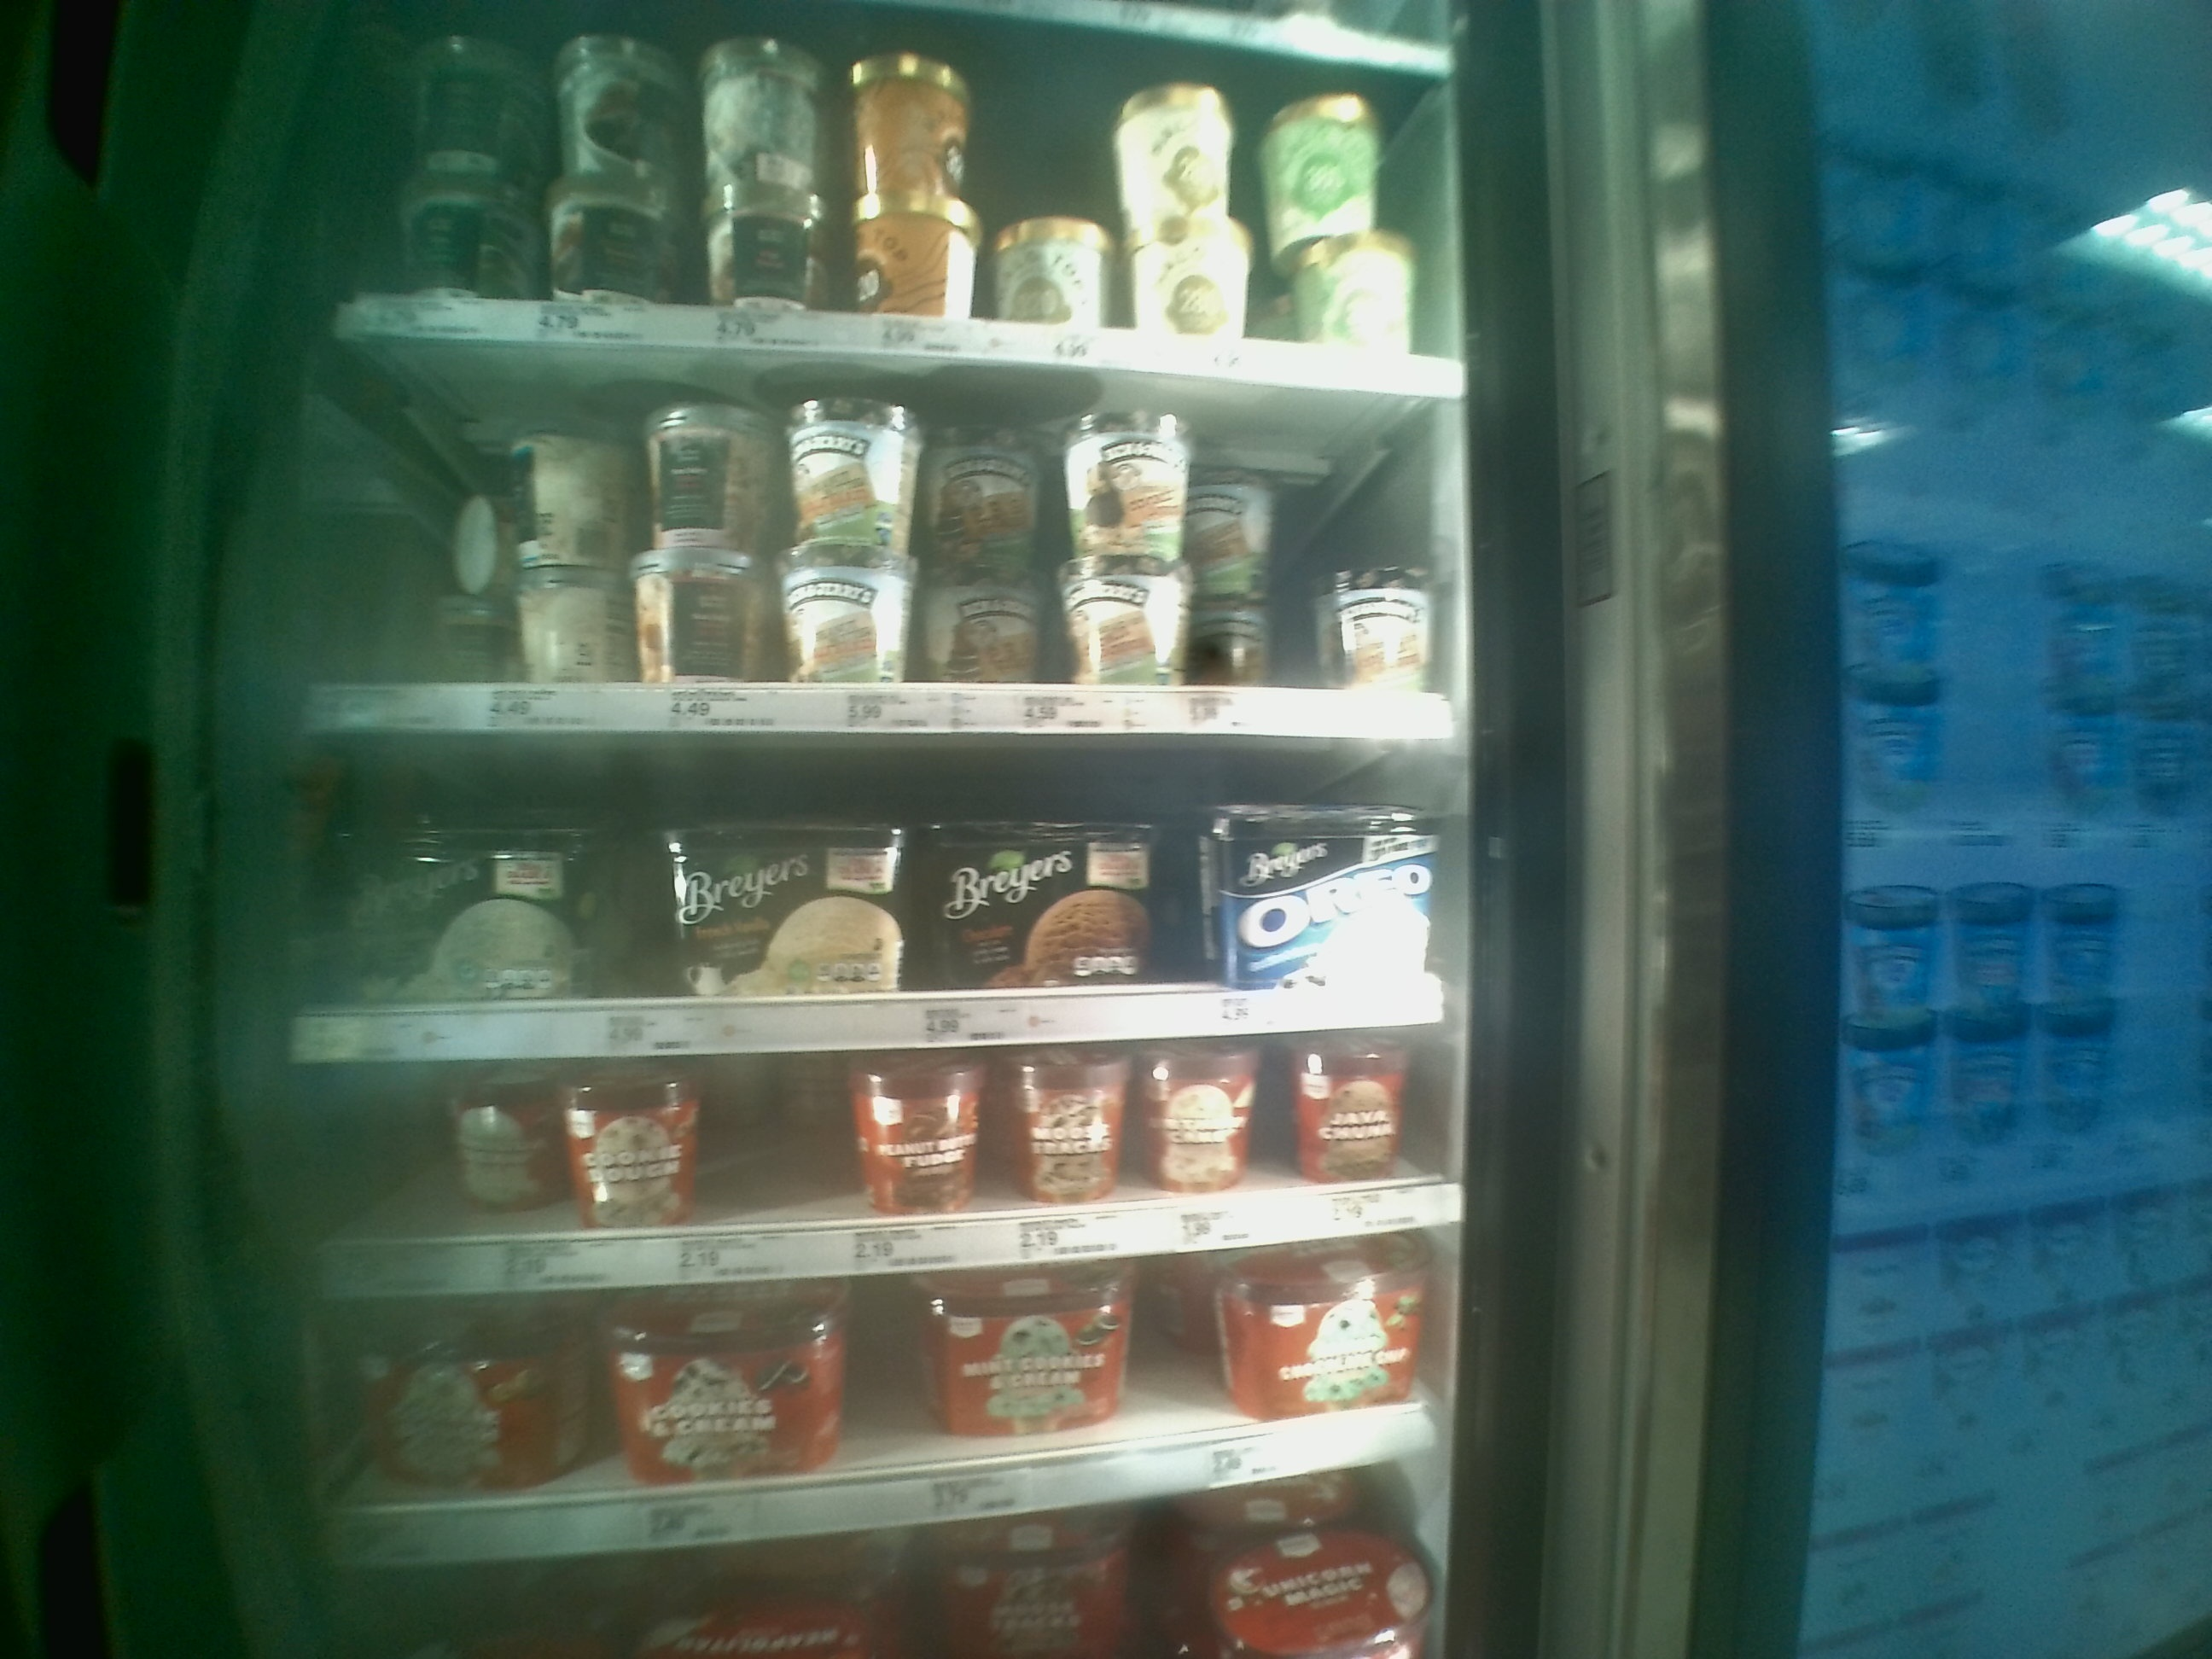ice-cream-shelf: (310, 359, 1430, 746), (296, 732, 1444, 1040), (301, 1060, 1406, 1276)
